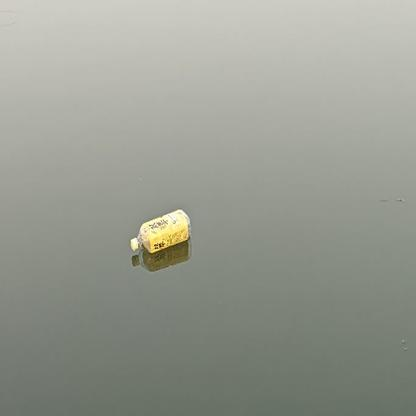plastic bottle: (129, 208, 192, 254)
